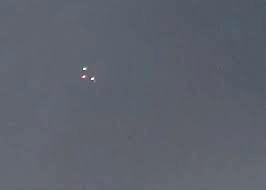Plane: (65, 58, 107, 87)
